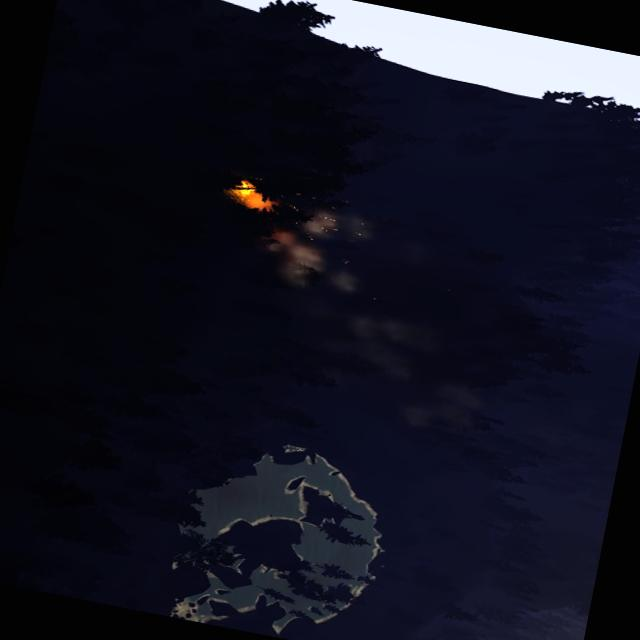fire: (227, 178, 279, 215)
smoke: (231, 194, 512, 436)
